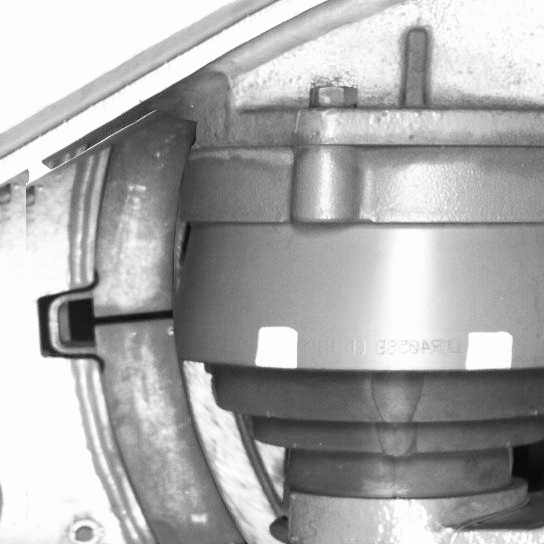ClosedKnifeSwitch: (64, 146, 290, 543)
